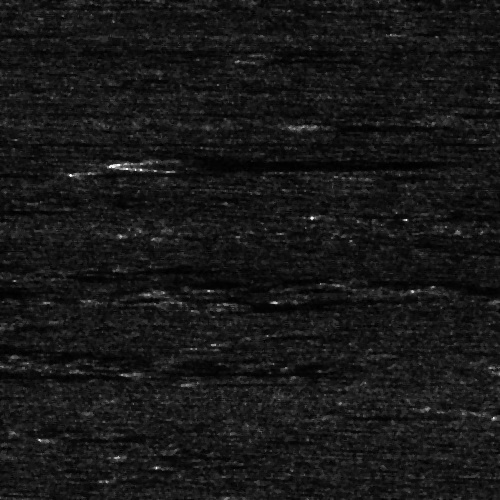object: (48, 362, 235, 379), (90, 154, 183, 169), (393, 280, 498, 291), (321, 121, 384, 130), (316, 410, 379, 415), (61, 265, 124, 270), (256, 295, 319, 300)
shadow: (136, 154, 389, 169), (142, 362, 349, 379), (353, 121, 500, 130), (93, 265, 245, 270), (445, 280, 500, 291), (0, 369, 52, 380), (348, 410, 457, 415), (288, 295, 396, 300), (0, 206, 77, 213), (0, 168, 74, 175), (0, 28, 30, 39), (0, 286, 24, 297), (0, 258, 20, 269)
